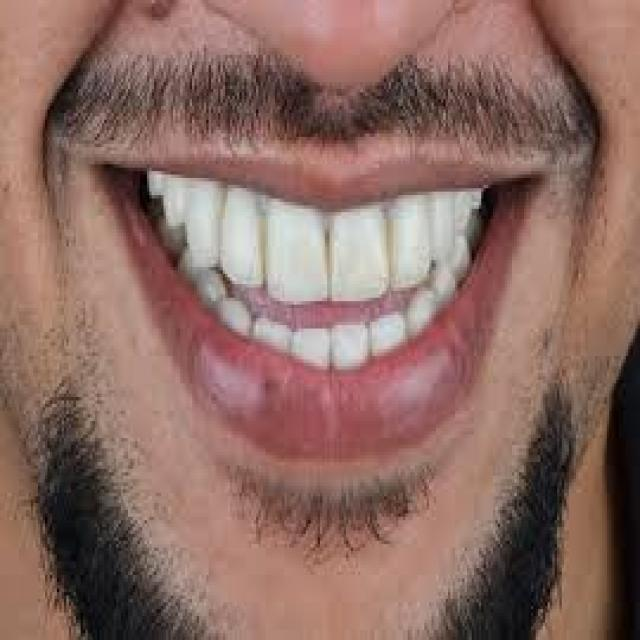tooth: (270, 206, 325, 302), (332, 209, 384, 294), (394, 195, 429, 284), (228, 195, 263, 281), (190, 181, 220, 260), (434, 188, 455, 253), (337, 325, 368, 363), (296, 332, 330, 363), (256, 318, 289, 349), (408, 294, 433, 322), (374, 322, 403, 346), (168, 175, 182, 222), (227, 305, 249, 332), (204, 274, 220, 311), (436, 267, 455, 298), (462, 188, 477, 226), (164, 233, 180, 253), (150, 174, 162, 198), (460, 243, 469, 270), (182, 270, 196, 284)
